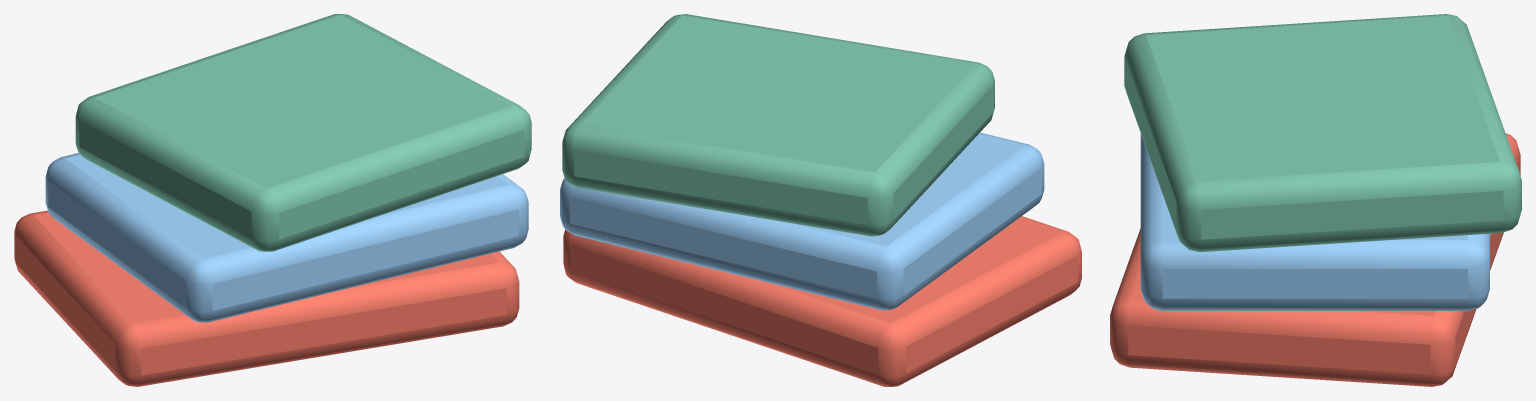
Rendered from prop-bookstack.glb.
The picture shows the model from 3 angles, left to right: view 1: azimuth 30°, elevation 25°; view 2: azimuth 150°, elevation 25°; view 3: azimuth 270°, elevation 25°; orthographic projection. The views are drawn at different scales.
Visible parts, largest first — view 1: Book2, Book0, Book1; view 2: Book2, Book0, Book1; view 3: Book2, Book1, Book0.
Part boxes in pixels (x1=…): Book2: x1=75, y1=14, x2=531, y2=251; Book0: x1=14, y1=210, x2=519, y2=386; Book1: x1=45, y1=153, x2=528, y2=322; Book2: x1=562, y1=14, x2=994, y2=236; Book0: x1=563, y1=216, x2=1081, y2=386; Book1: x1=560, y1=132, x2=1044, y2=310; Book2: x1=1124, y1=14, x2=1521, y2=252; Book1: x1=1140, y1=133, x2=1489, y2=310; Book0: x1=1110, y1=133, x2=1520, y2=386.
Bounding box in the file's own units: 0.2424 × 0.105 × 0.1887.
